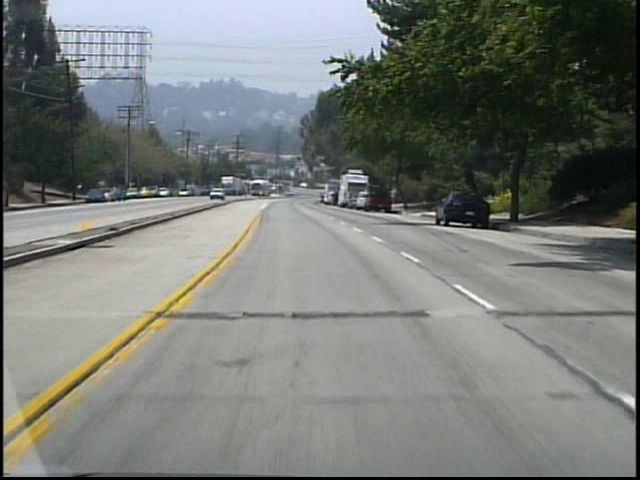person: (388, 183, 400, 209)
